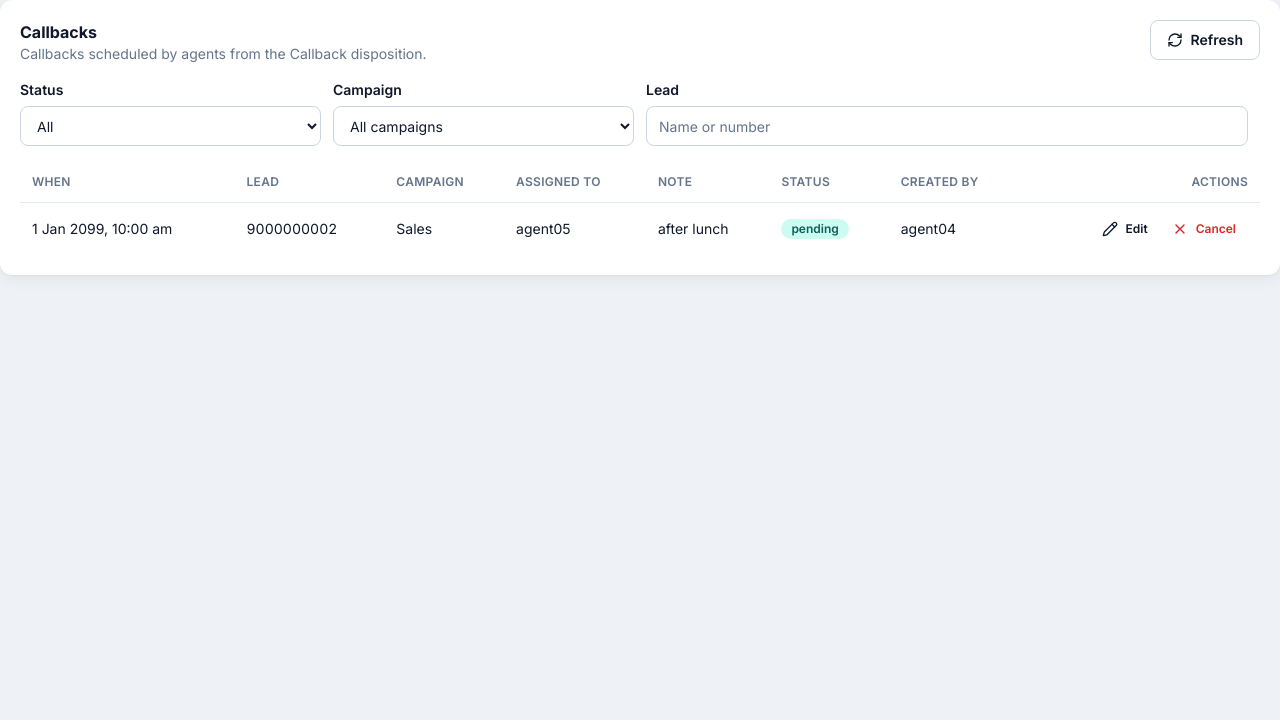
Test: Callbacks › shows the server's reason when an edit is refused and keeps the dialog open
The image size is (1280, 720).
Click the button with aria-label "Edit callback for 9000000002": (1125, 228) top-left (1090, 212), bottom-right (1160, 244)
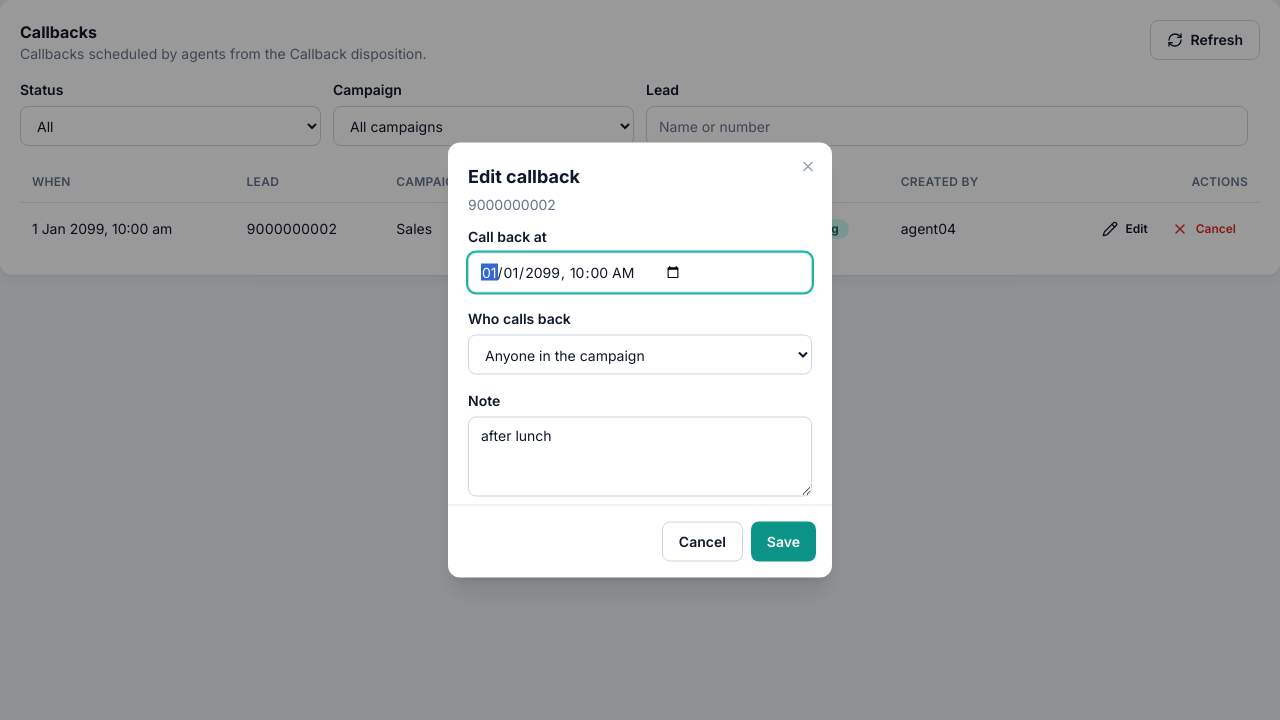
Click the button "Save": (783, 542) top-left (751, 522), bottom-right (816, 562)
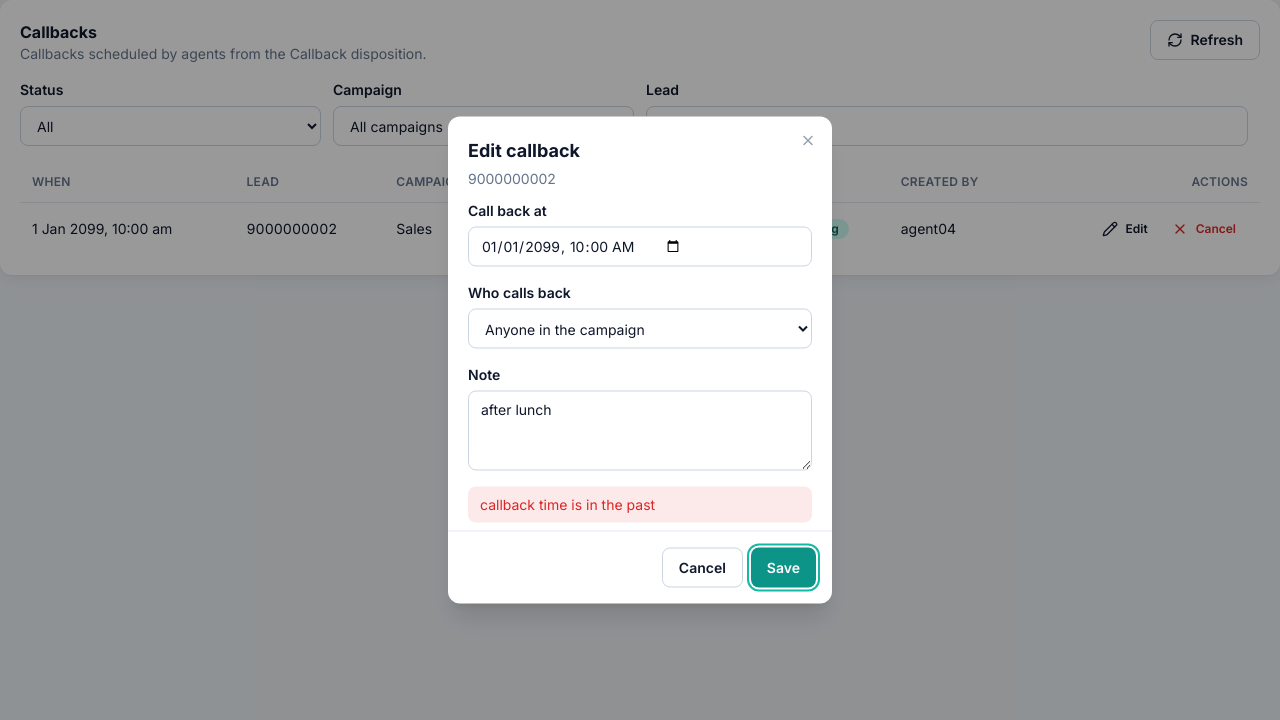
Now the message reads "callback time is in the past", box top-left (480, 496), bottom-right (655, 512)
